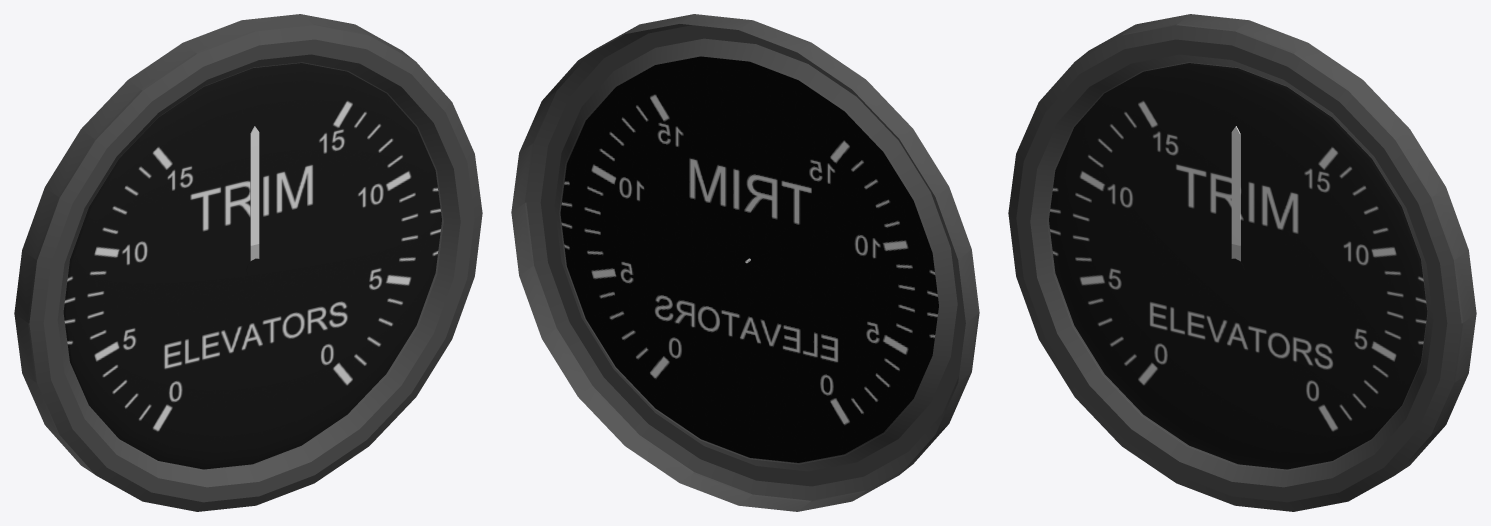
File: Gauge_Trim.obj
The picture shows the model from 3 angles, left to right: view 1: azimuth 30°, elevation 25°; view 2: azimuth 150°, elevation 25°; view 3: azimuth 330°, elevation 25°; orthographic projection.
Visible parts, largest first — view 1: Face, Rim, NeedleMain; view 2: Face, Rim; view 3: Face, Rim, NeedleMain.
Part boxes in pixels (x1,y1,x2,y2): Face: (63, 63, 441, 469); Rim: (14, 14, 482, 511); NeedleMain: (250, 126, 259, 245); Face: (560, 56, 938, 462); Rim: (511, 14, 979, 511); Face: (1049, 63, 1427, 469); Rim: (1008, 14, 1476, 511); NeedleMain: (1231, 126, 1240, 245).
Bounding box in the file's own units: 0.0822 × 0.0822 × 0.00794.
